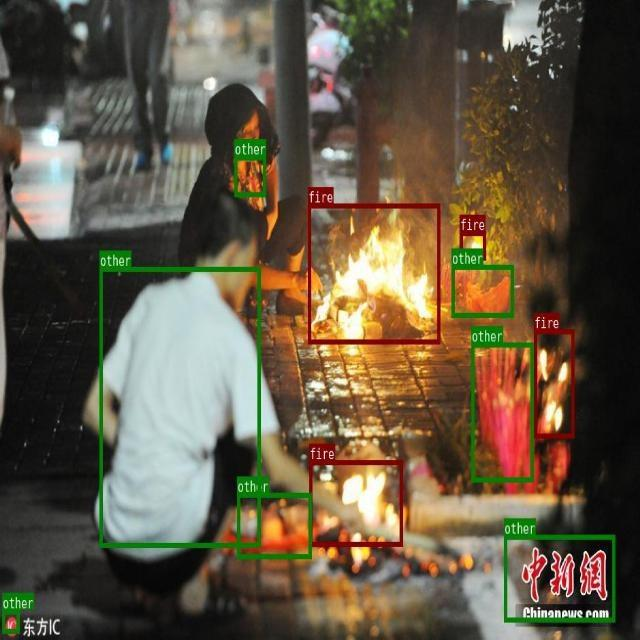fire: (307, 202, 439, 343), (309, 460, 402, 545), (533, 329, 574, 438), (460, 230, 485, 259)
